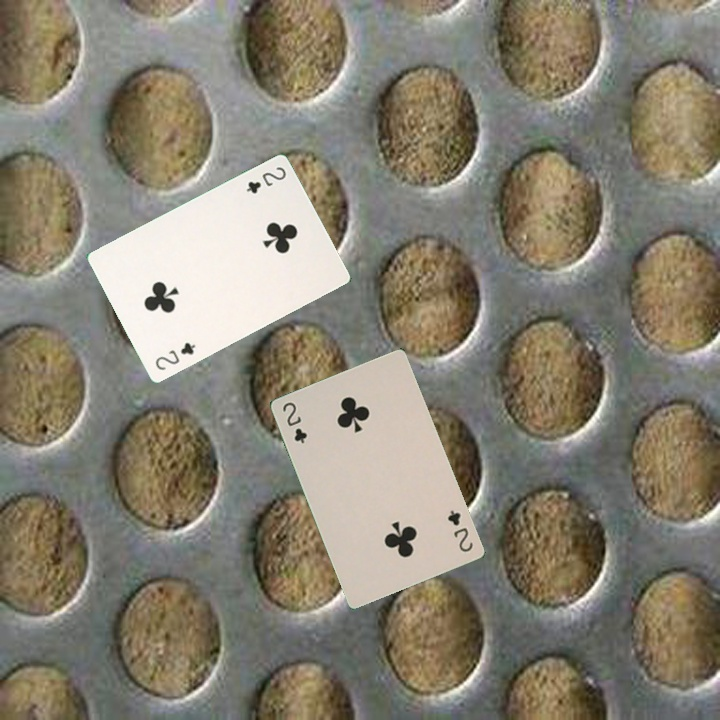2c: (151, 338, 198, 373), (443, 506, 476, 555), (242, 162, 289, 196), (278, 398, 310, 446)
